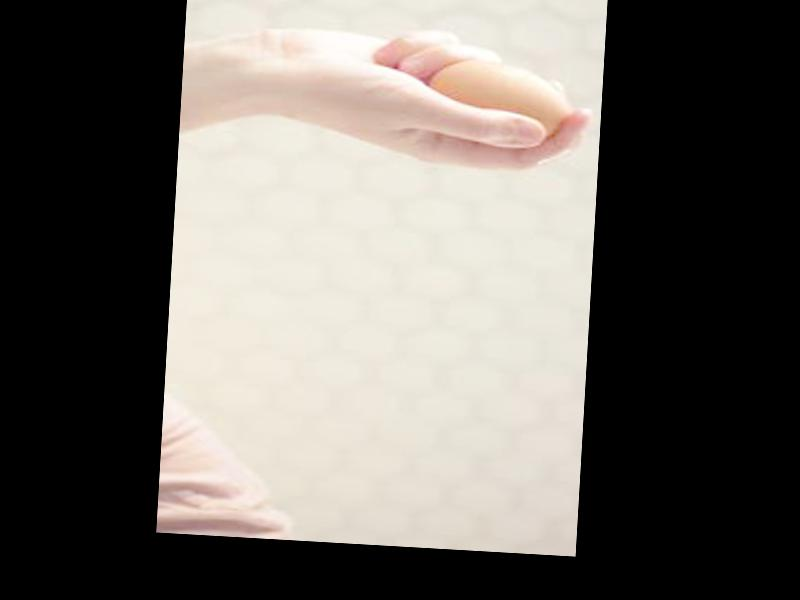Eggs: (426, 54, 571, 144)
